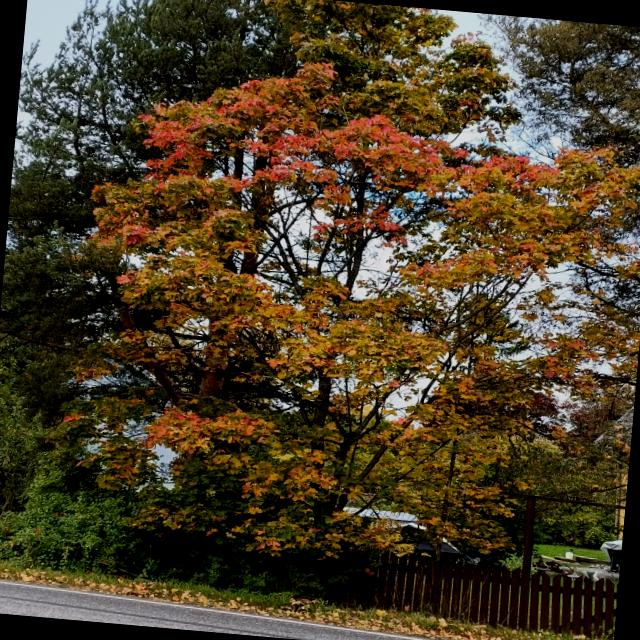Tree-detection: (50, 0, 640, 630)
